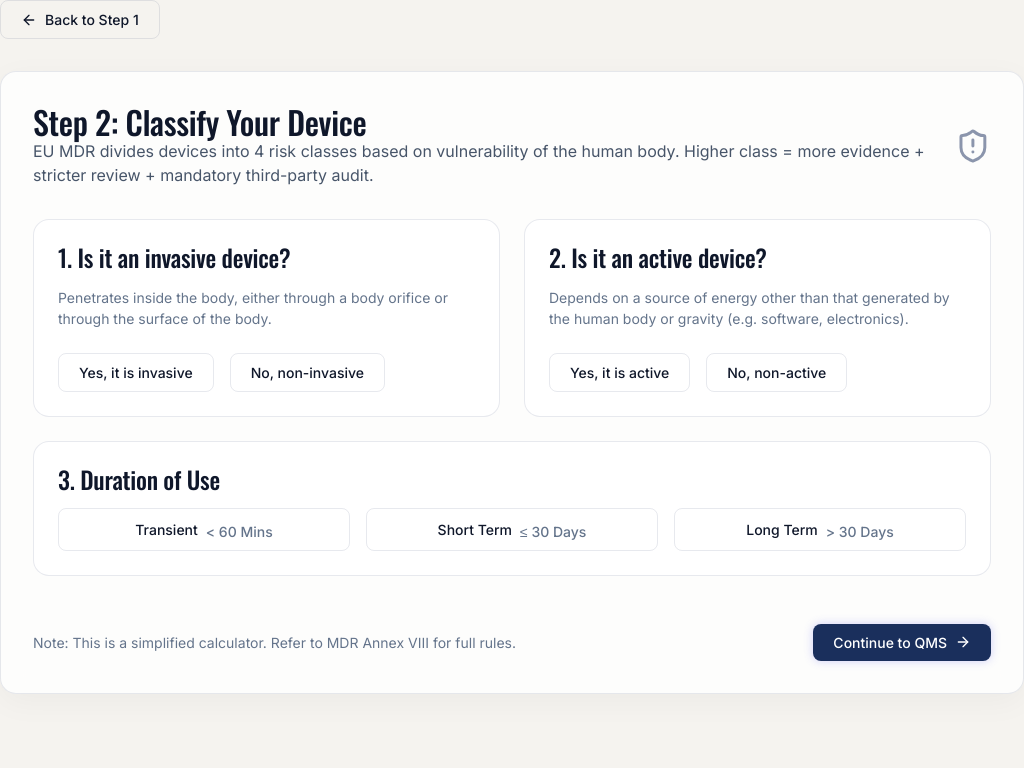
Scenario: Step2 component › step2.inv.05: Class IIb shown for active + short-term
This screenshot has width=1024, height=768.
Click the button "No, non-invasive".
click(307, 372)  # box [230,353,385,392]
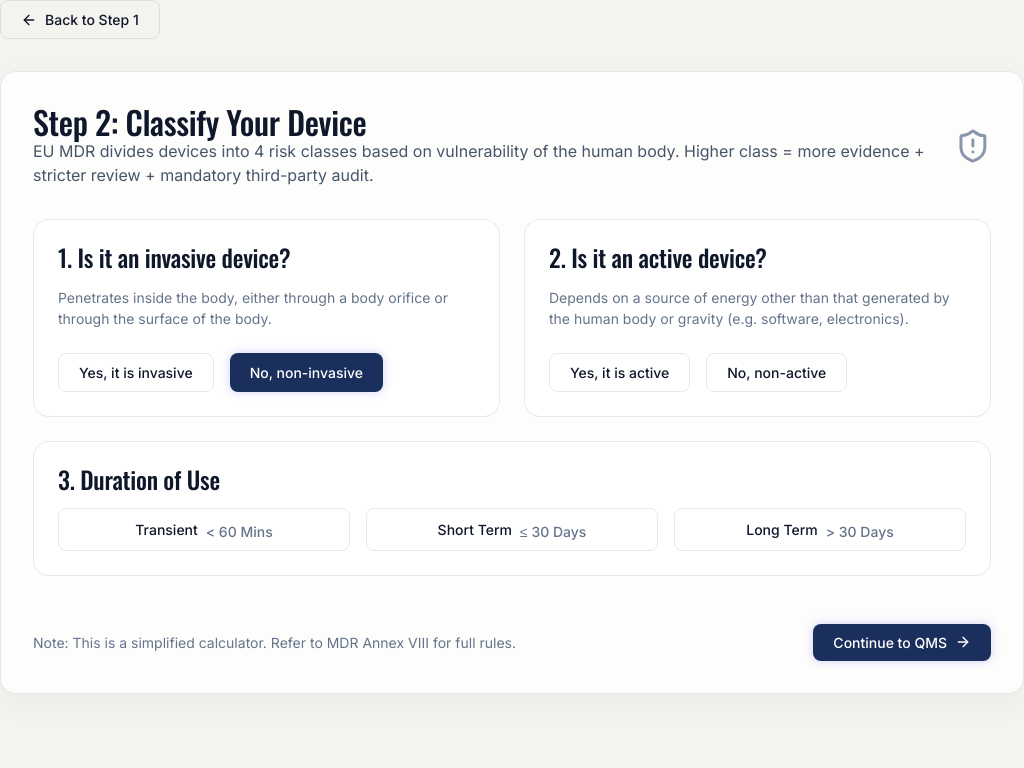
Click the button "Yes, it is active".
click(620, 372)  # box [549,353,690,392]
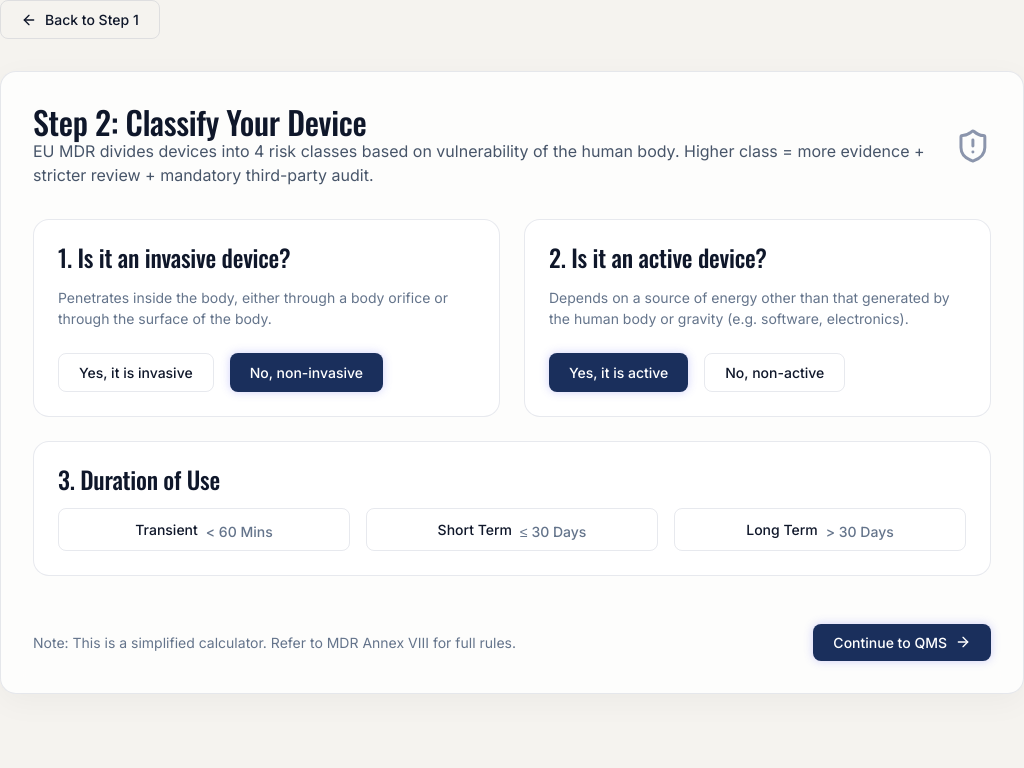
Click the button "short term ≤ 30 days".
click(512, 530)  # box [366,508,658,551]
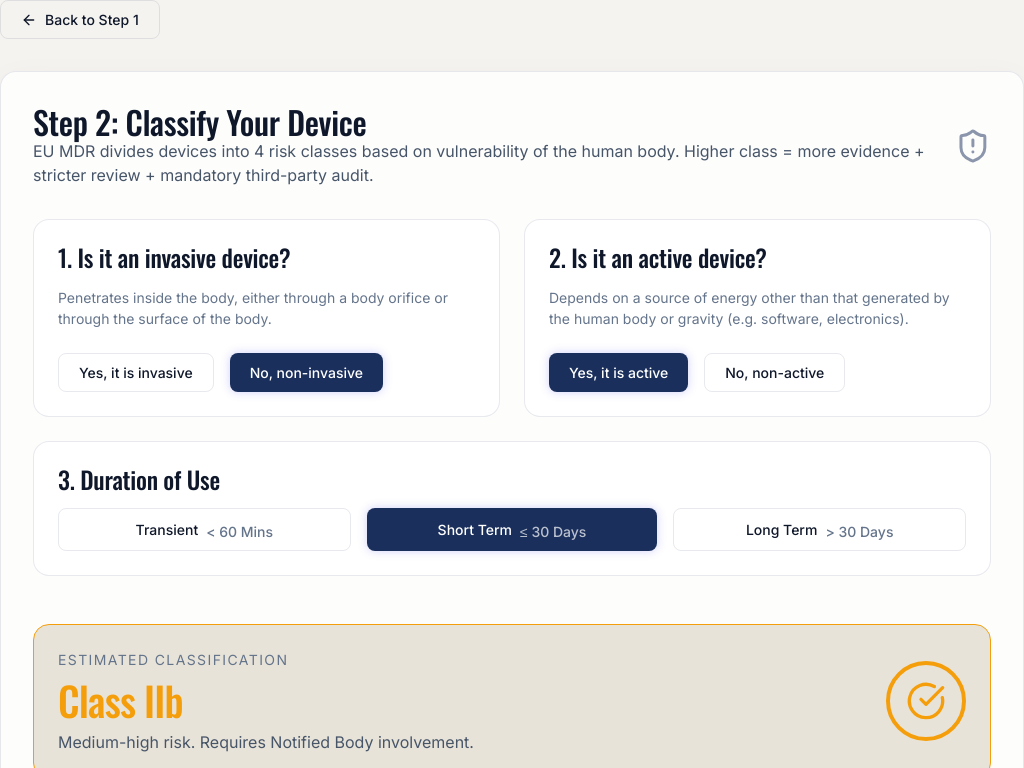
Expected: the heading "Class IIb" is shown, [58,670,183,730]
